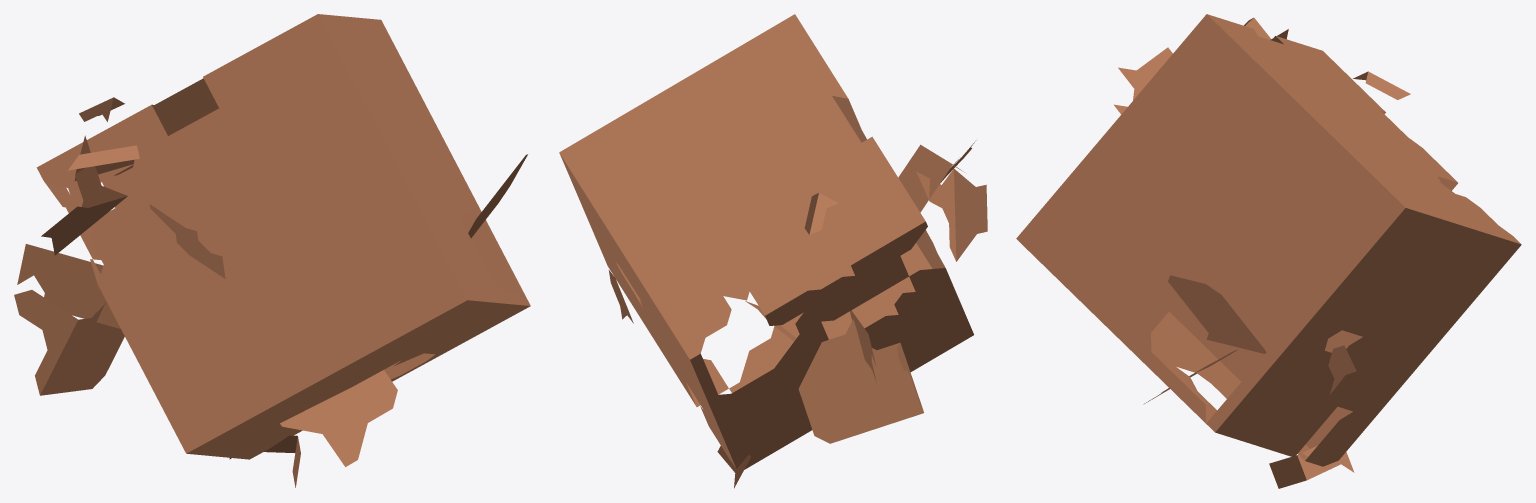
The model's file is explode_000016.obj.
3 renders of one model, left to right at view 1: azimuth 30°, elevation 25°; view 2: azimuth 150°, elevation 25°; view 3: azimuth 270°, elevation 25°, orthographic. The views are drawn at different scales.
Visible parts, largest first — view 1: Cube_Cube.001; view 2: Cube_Cube.001; view 3: Cube_Cube.001.
Boxes of the visible parts, x1,y1,x2,y2 form: Cube_Cube.001: [14, 14, 530, 487]; Cube_Cube.001: [559, 14, 987, 488]; Cube_Cube.001: [1016, 14, 1521, 488].
Size of the model in its own units: 3.34 by 3.45 by 3.38.
